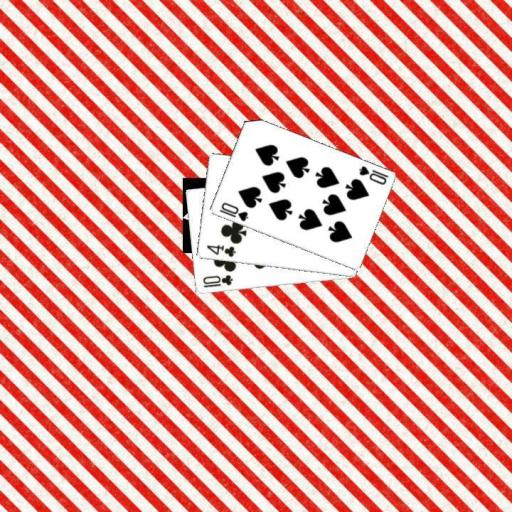card-corner: (216, 199, 250, 223), (355, 163, 390, 186), (200, 272, 234, 290), (203, 242, 237, 258)
